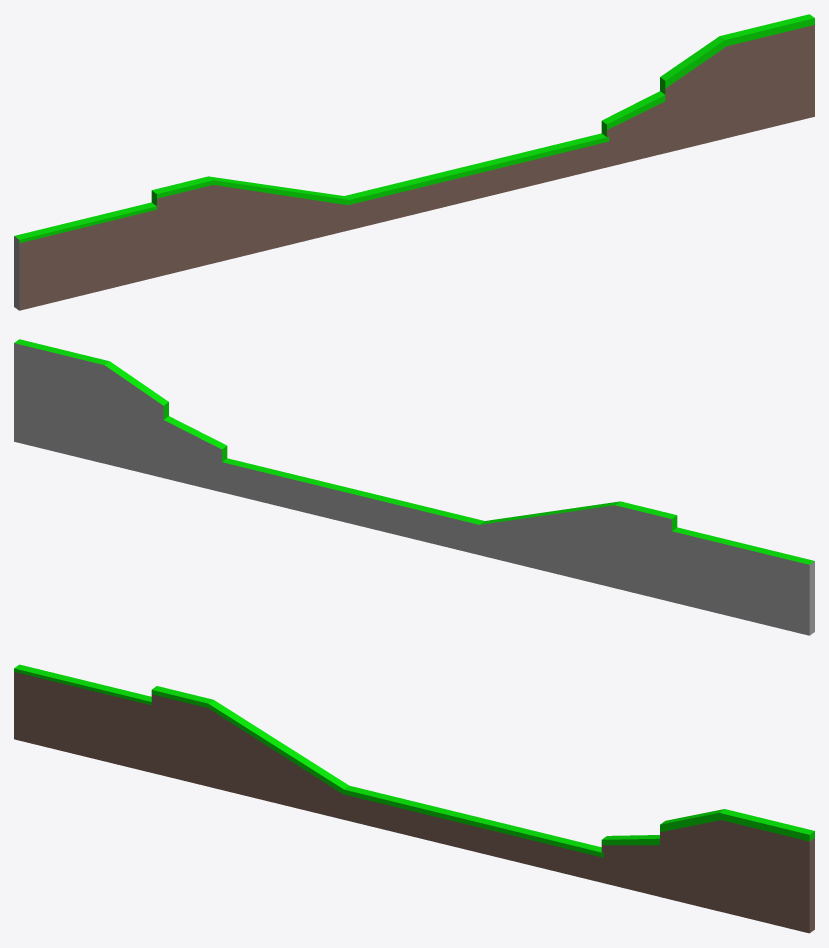
File: firsrt_2.fbx
3 renders of one model, top to bottom at view 1: azimuth 30°, elevation 25°; view 2: azimuth 150°, elevation 25°; view 3: azimuth 330°, elevation 25°, orthographic.
Visible parts, largest first — view 1: pasted__pasted__pasted__pCube1; view 2: pasted__pasted__pasted__pCube1; view 3: pasted__pasted__pasted__pCube1.
Boxes of the visible parts, x1,y1,x2,y2 form: pasted__pasted__pasted__pCube1: (14,14,814,310); pasted__pasted__pasted__pCube1: (14,339,814,635); pasted__pasted__pasted__pCube1: (14,664,814,933).
Bounding box in the file's own units: 171 × 20.26 × 2.02.
